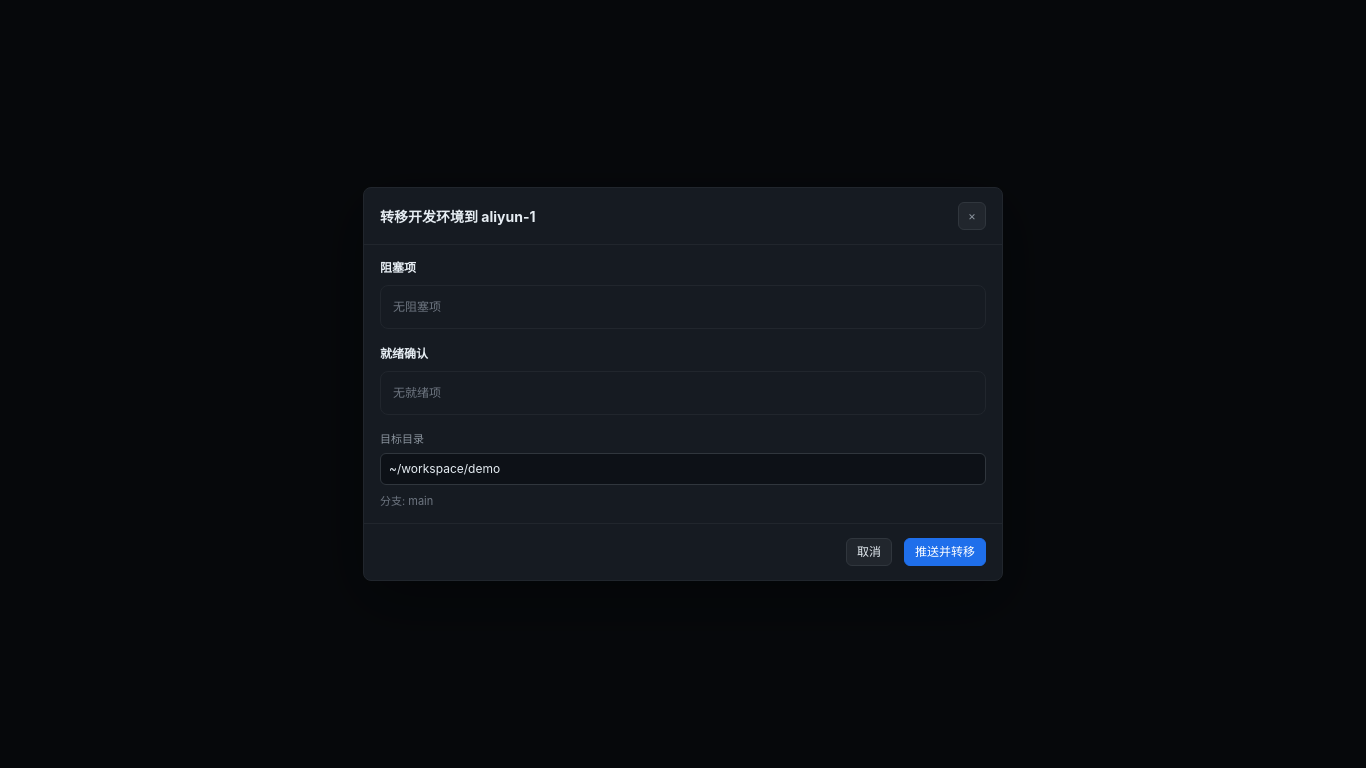
Test case: ProjectTransferDialog applying 轮询 › 轮询期间 404（记录丢失）转为 error 态并停止轮询
The image size is (1366, 768).
expect the text "无阻塞项" is shown: met, box x1=380 y1=285 x2=986 y2=329
What coordinates should you click on to do the following:
click the button with test id "transfer-execute"
I would click on:
 (945, 552)
Its box is x1=904 y1=538 x2=986 y2=566.
Wait 6000 ms
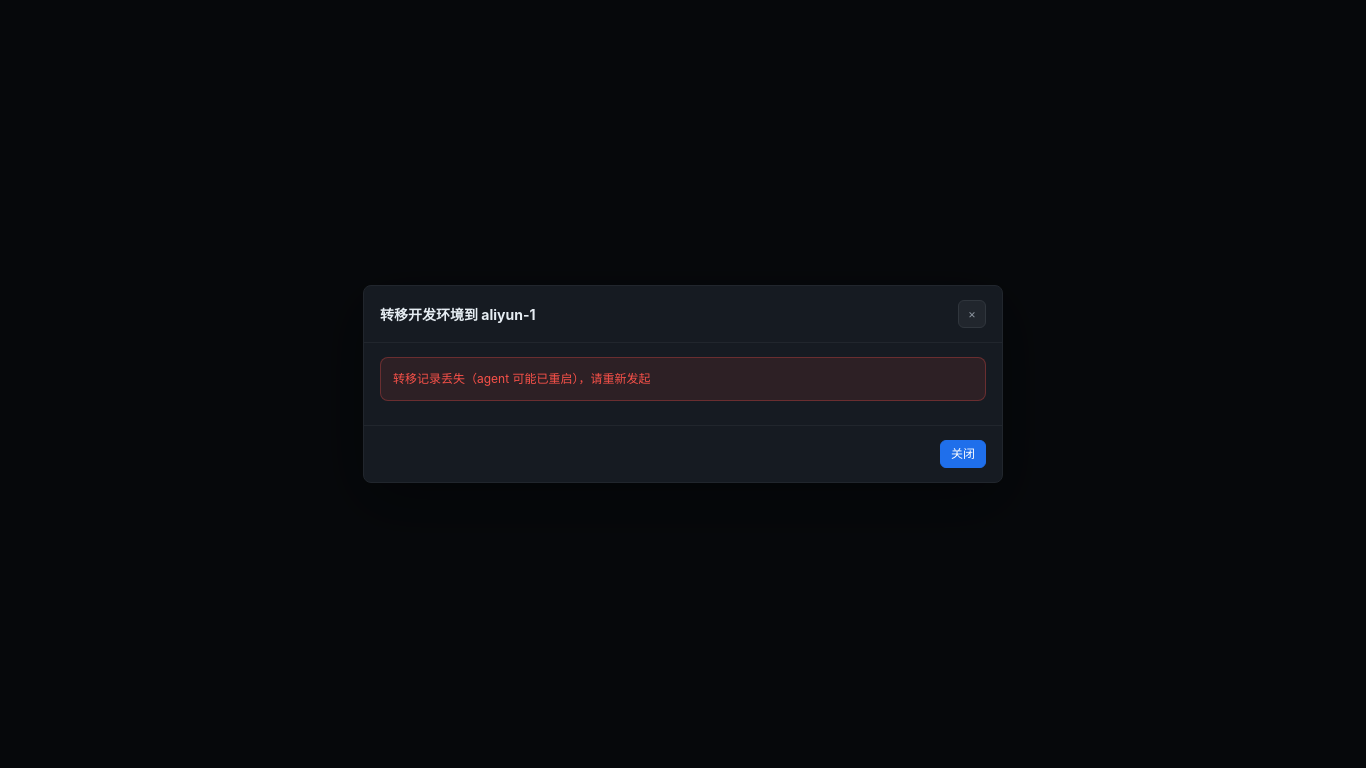
expect the text "转移记录丢失（agent 可能已重启），请重新发起" is shown: met, box x1=380 y1=357 x2=986 y2=401
